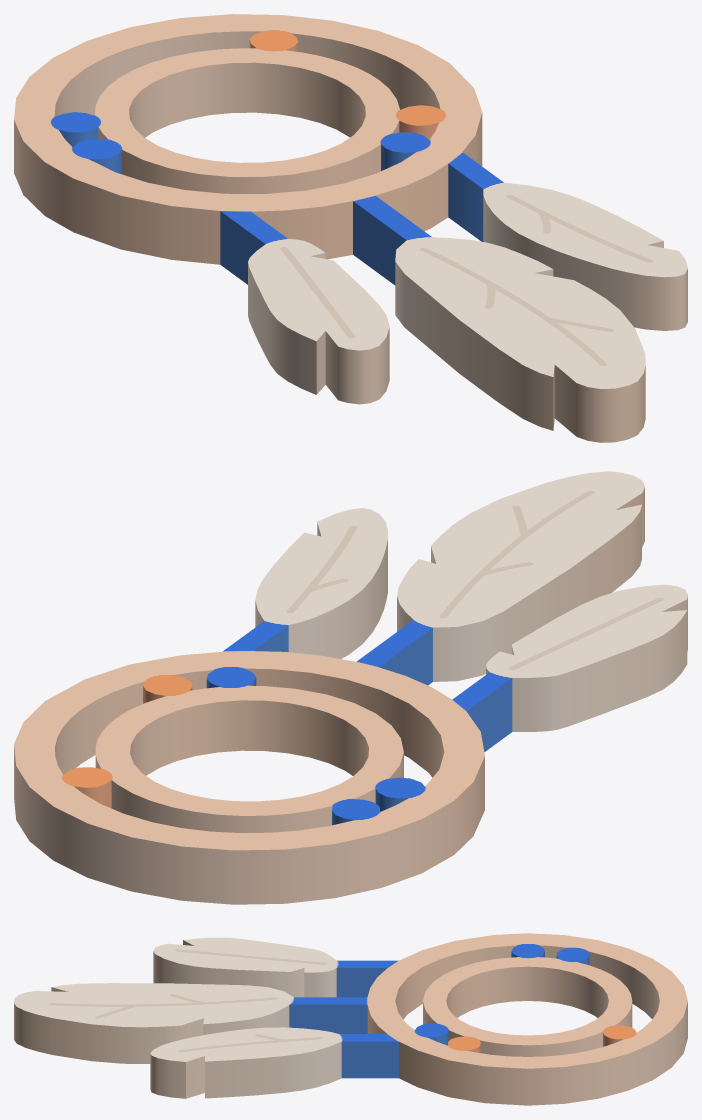
The model's file is Dreamcatcher.FBX.
3 renders of one model, top to bottom at view 1: azimuth 30°, elevation 25°; view 2: azimuth 150°, elevation 25°; view 3: azimuth 270°, elevation 25°, orthographic. The views are drawn at different scales.
Visible parts, largest first — view 1: Dreamcatcher; view 2: Dreamcatcher; view 3: Dreamcatcher.
Part boxes in pixels (x1,y1,x2,y2): Dreamcatcher: (14,14,687,442); Dreamcatcher: (14,471,687,904); Dreamcatcher: (14,933,687,1105).
Bounding box in the file's own units: 55.22 × 7 × 116.
Materials: 1 (1 with a texture image).
